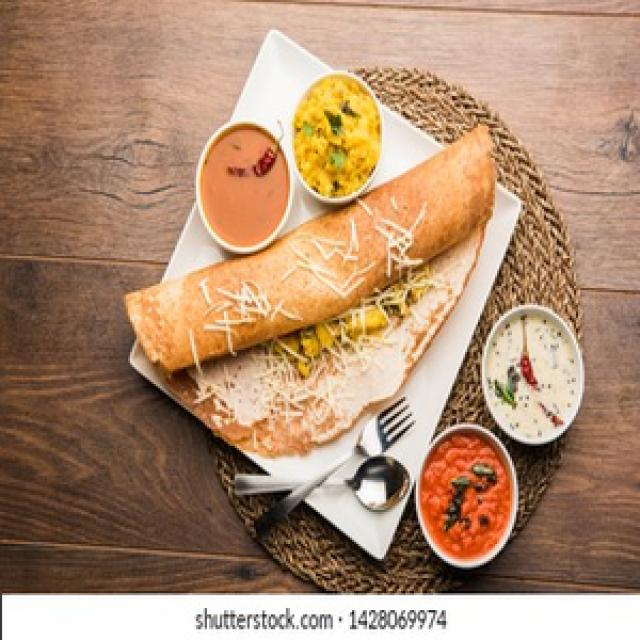dosa: (115, 113, 513, 458)
